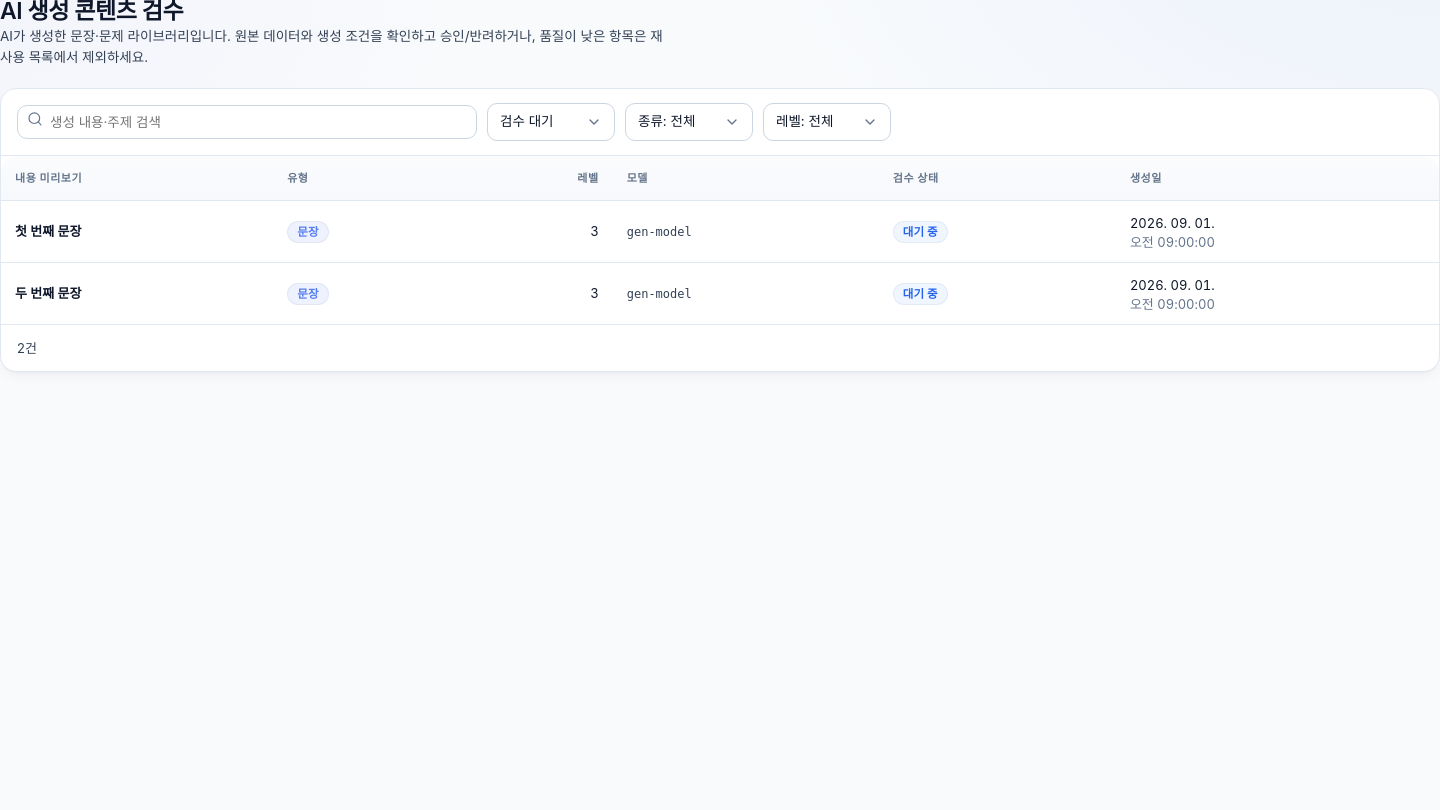
Scenario: AI content review › lets a reviewer without content:write approve and reject, but not delete
Click the text "첫 번째 문장" at [48, 231], box left=15, top=223, right=81, bottom=239
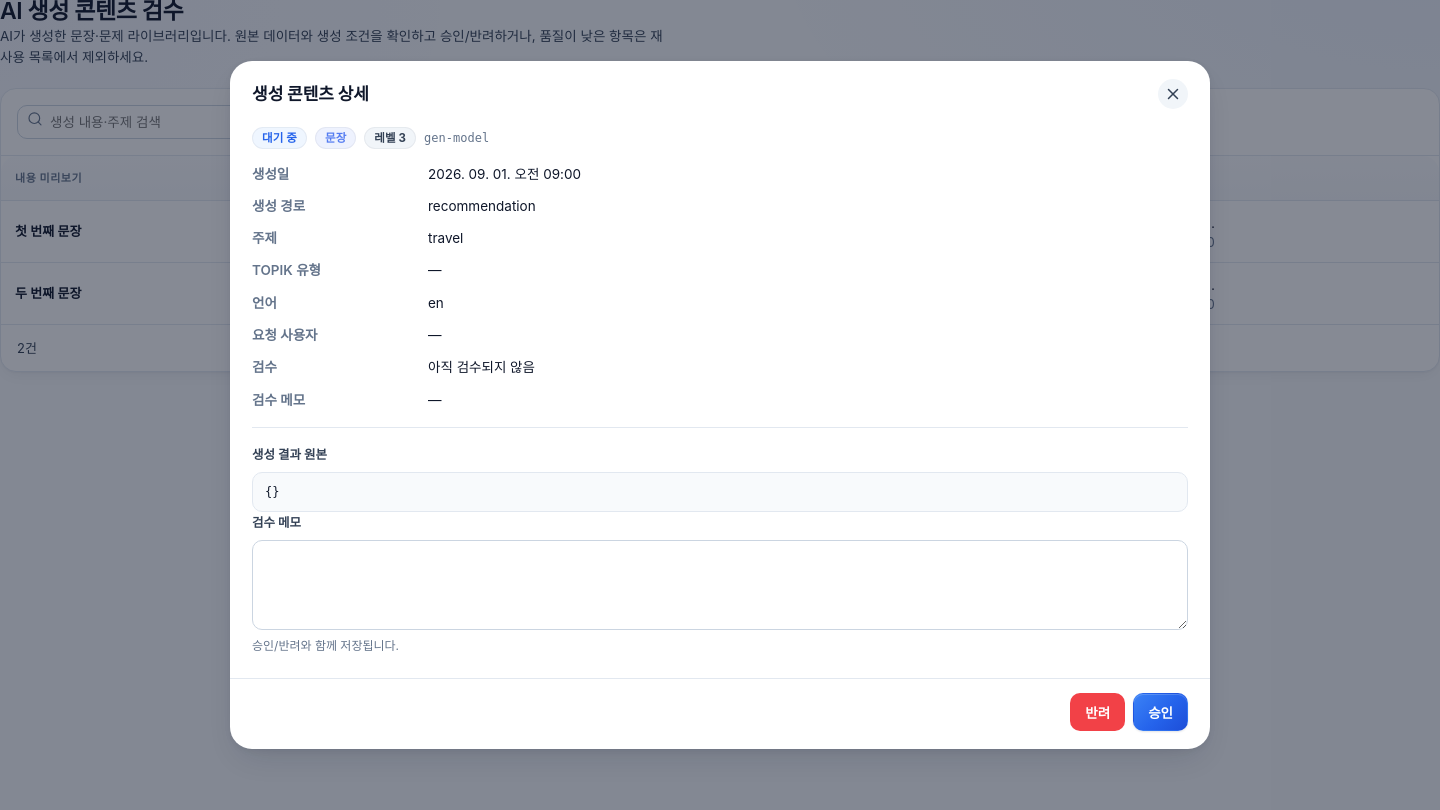
expect the button "승인" is shown: met, box left=1133, top=693, right=1188, bottom=731
expect the button "반려" is shown: met, box left=1070, top=693, right=1125, bottom=731
expect the text box labelled "검수 메모 승인/반려와 함께 저장됩니다." is shown: met, box left=252, top=540, right=1188, bottom=630
